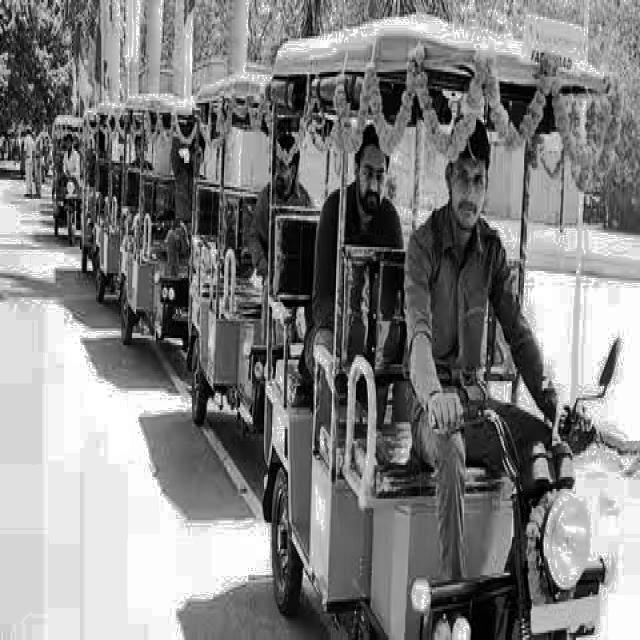Toto: (260, 20, 606, 640), (191, 71, 275, 422), (120, 91, 197, 347)
